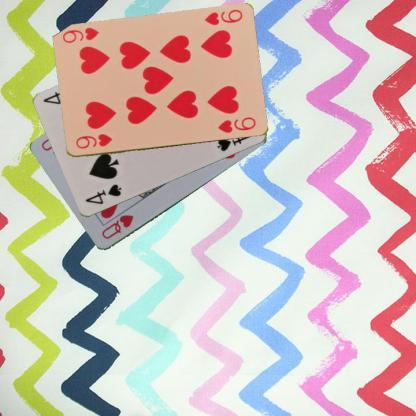4s: (82, 182, 123, 206)
9h: (202, 7, 244, 27), (73, 131, 114, 150)
Qh: (98, 212, 136, 241)
